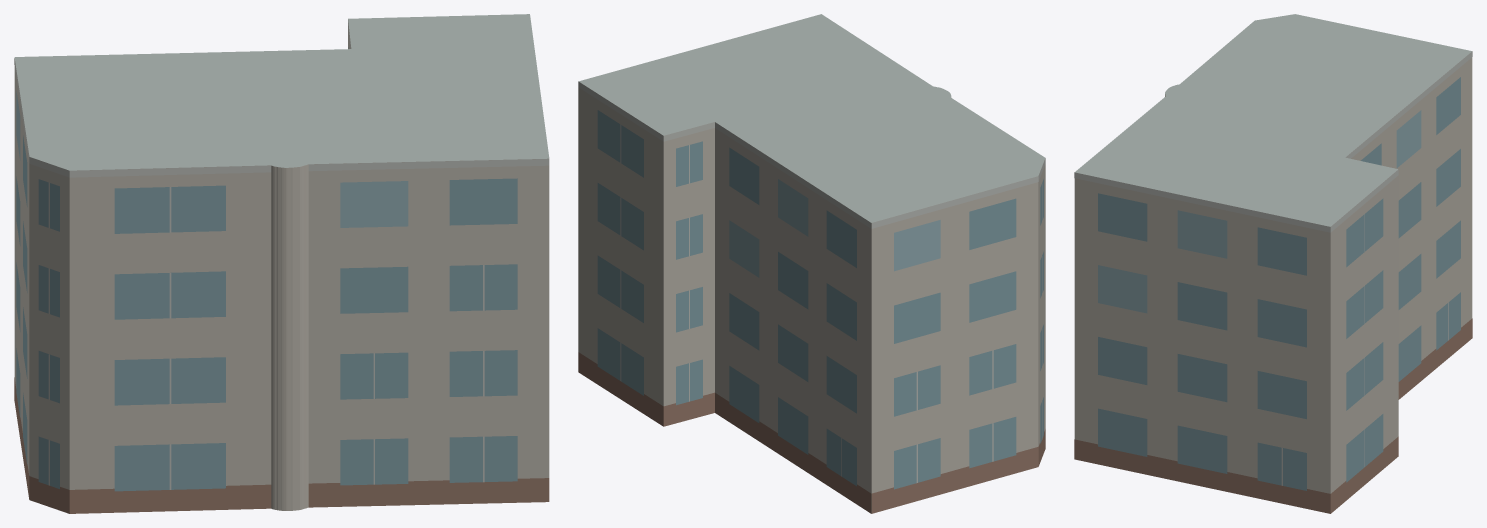
Rendered from survey-upis-32906886.glb.
3 views of the same model, side by side, from view 1: azimuth 30°, elevation 25°; view 2: azimuth 150°, elevation 25°; view 3: azimuth 270°, elevation 25° (orthographic). The views are drawn at different scales.
Parts seen in each view (by area): view 1: survey-upis-32906886.tmp; view 2: survey-upis-32906886.tmp; view 3: survey-upis-32906886.tmp.
Part boxes in pixels (bbox=[...]): survey-upis-32906886.tmp: bbox=[14, 14, 549, 513]; survey-upis-32906886.tmp: bbox=[578, 14, 1045, 513]; survey-upis-32906886.tmp: bbox=[1074, 14, 1472, 513].
Size of the model in its own units: 19.05 by 11.97 by 15.05.
